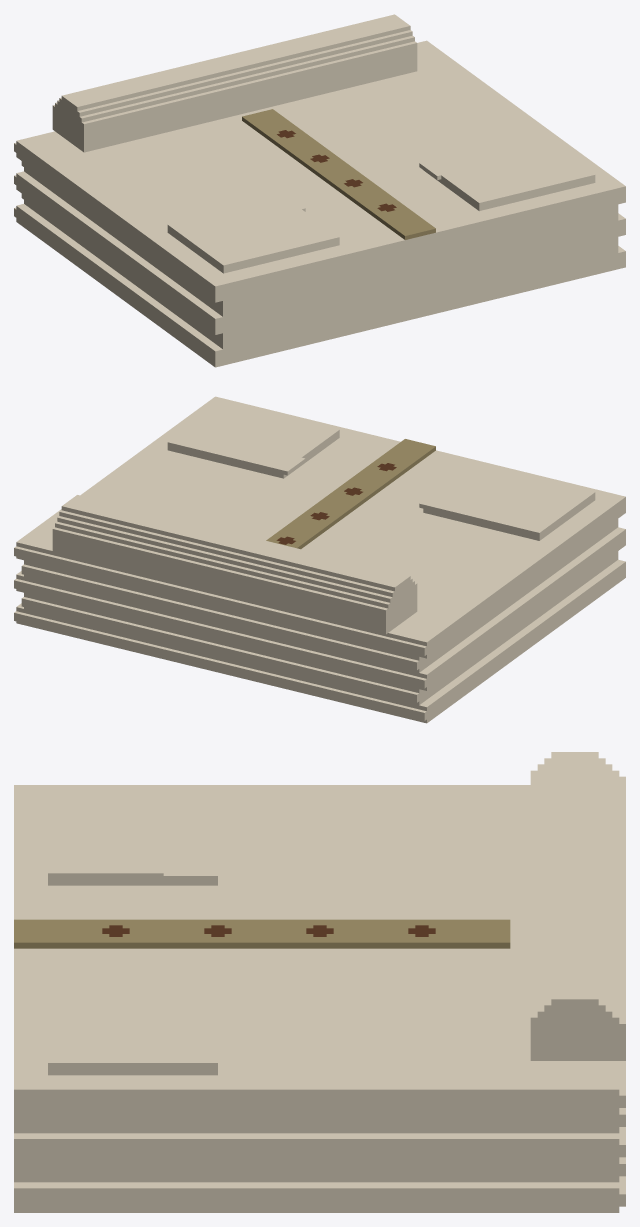
The model's file is duster_faux_fur.glb.
The picture shows the model from 3 angles, top to bottom: view 1: azimuth 30°, elevation 25°; view 2: azimuth 150°, elevation 25°; view 3: azimuth 270°, elevation 25°; orthographic projection. The views are drawn at different scales.
Visible parts, largest first — view 1: duster_faux_fur:compound; view 2: duster_faux_fur:compound; view 3: duster_faux_fur:compound.
Boxes of the visible parts, x1,y1,x2,y2 form: duster_faux_fur:compound: (14,14,625,367); duster_faux_fur:compound: (14,396,625,723); duster_faux_fur:compound: (14,752,625,1212).
Bounding box in the file's own units: 0.424 × 0.12 × 0.36.
